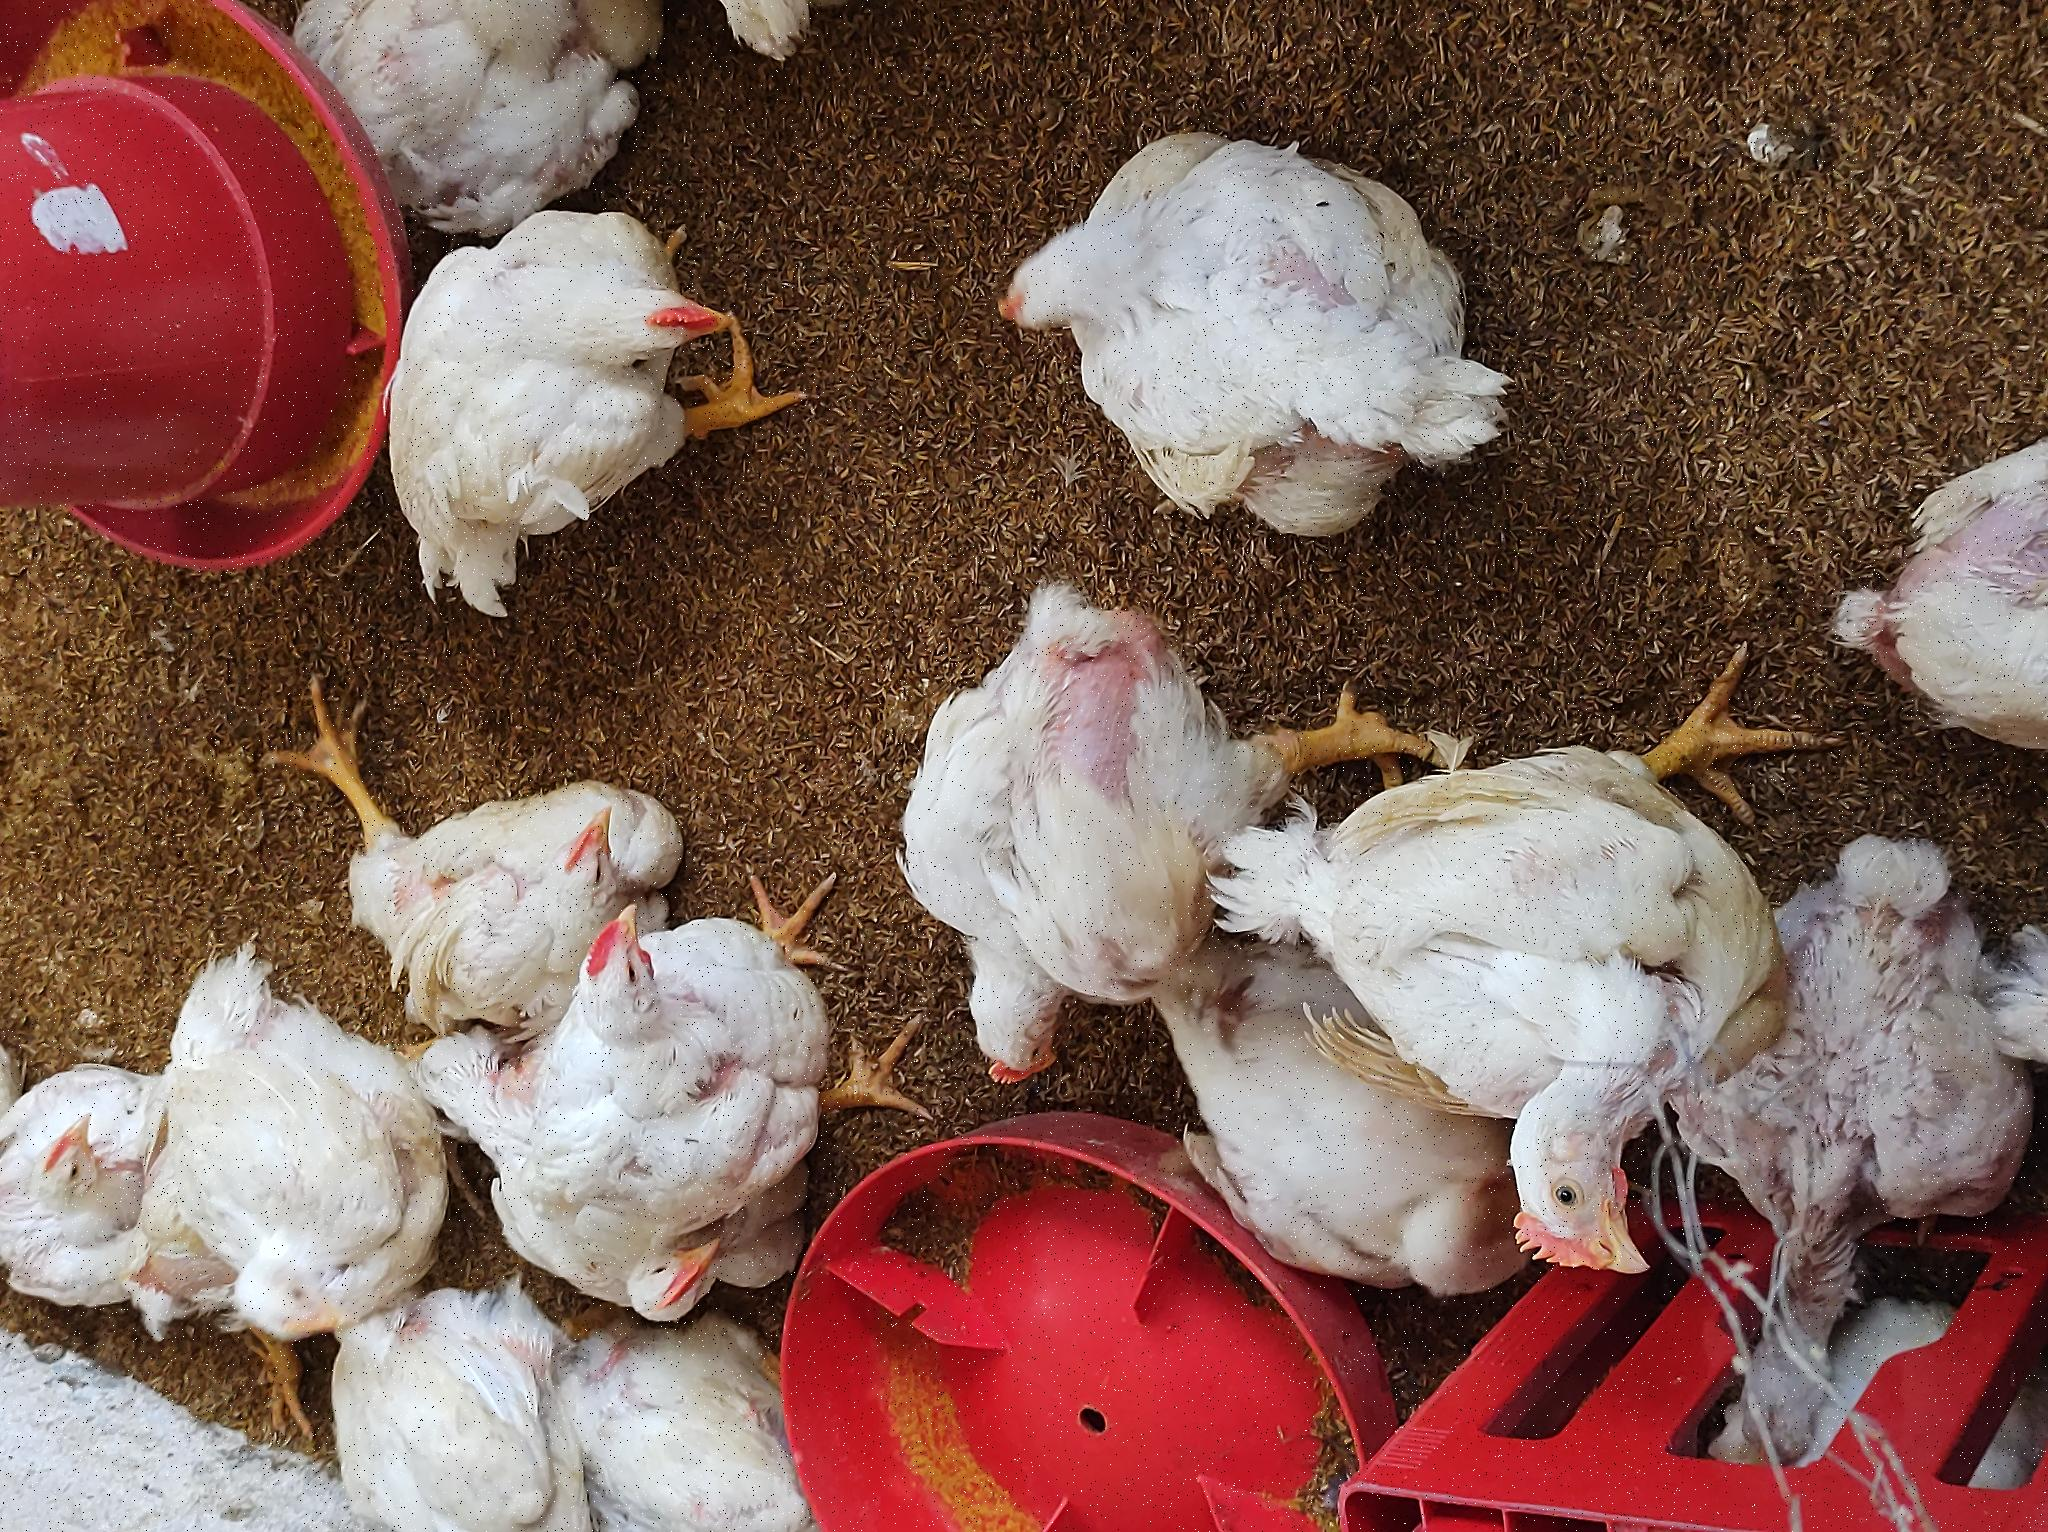Pollos: (973, 995, 1404, 1519), (920, 328, 1342, 782), (426, 904, 951, 1266), (148, 1146, 570, 1500), (179, 122, 637, 446), (248, 463, 610, 842), (587, 283, 846, 682), (1306, 243, 1530, 652), (2, 303, 306, 566), (211, 2, 537, 163), (2, 562, 204, 817)
